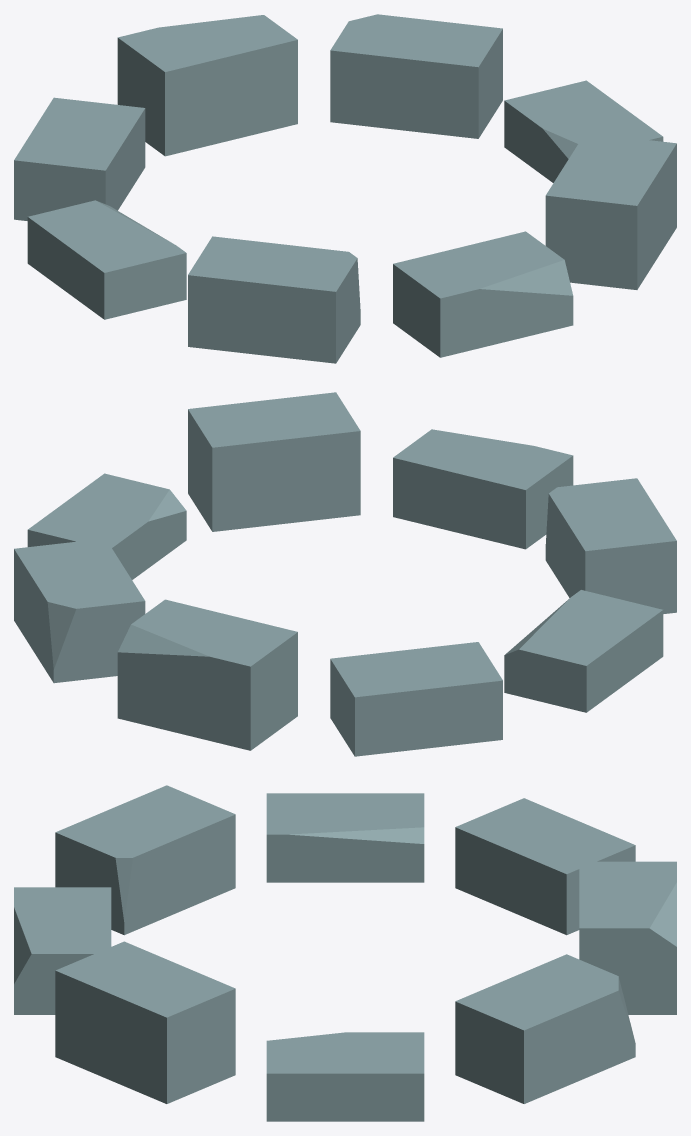
File: campfire_bricks.glb
The picture shows the model from 3 angles, top to bottom: view 1: azimuth 30°, elevation 25°; view 2: azimuth 150°, elevation 25°; view 3: azimuth 270°, elevation 25°; orthographic projection. The views are drawn at different scales.
Visible parts, largest first — view 1: campfire_bricks; view 2: campfire_bricks; view 3: campfire_bricks.
Part boxes in pixels (bbox=[...]): campfire_bricks: bbox=[14, 14, 676, 363]; campfire_bricks: bbox=[14, 392, 676, 756]; campfire_bricks: bbox=[14, 785, 676, 1121].
Size of the model in its own units: 0.563 by 0.0811 by 0.563.
